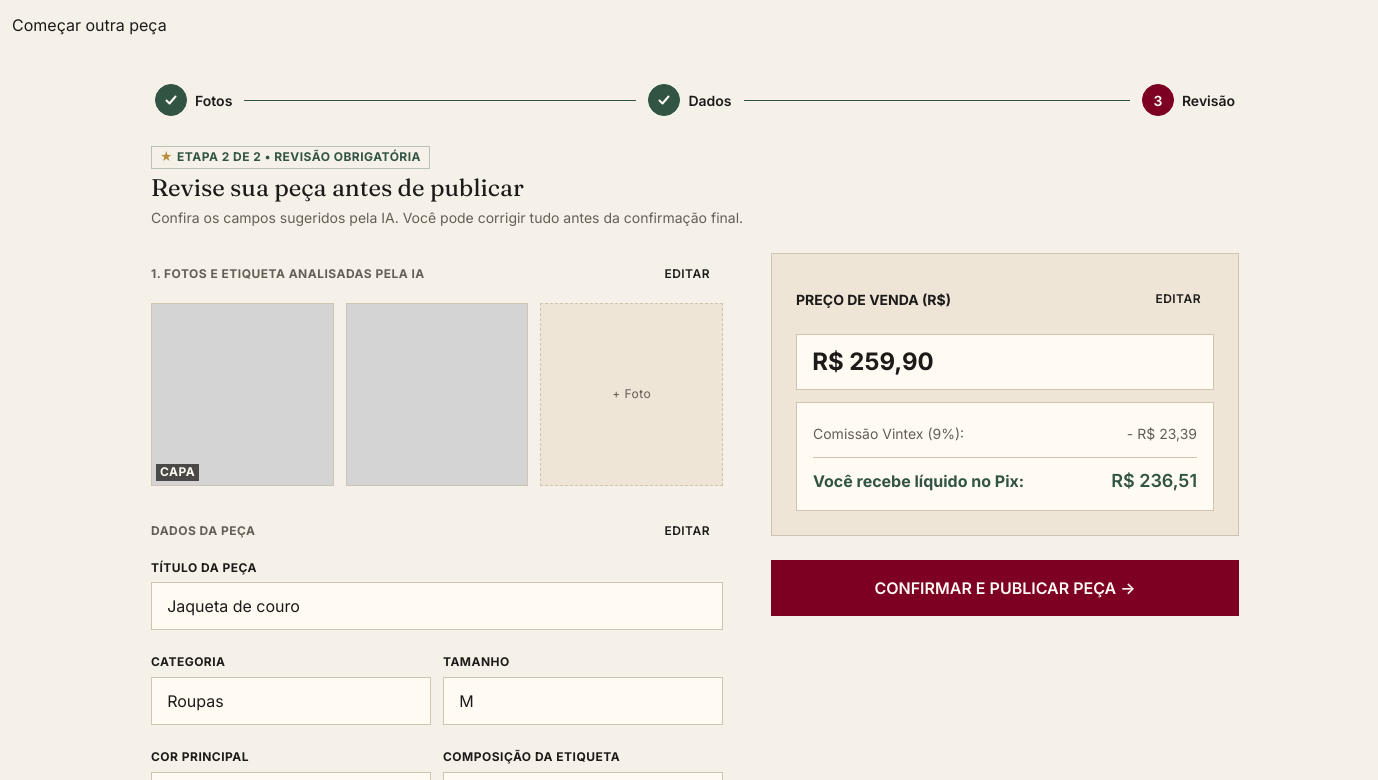
Test case: Review › NO_IMAGE vindo do back também bloqueia na revisão, sem navegar
Click the button "Confirmar e publicar peça →": (1005,588) [771,560,1239,616]
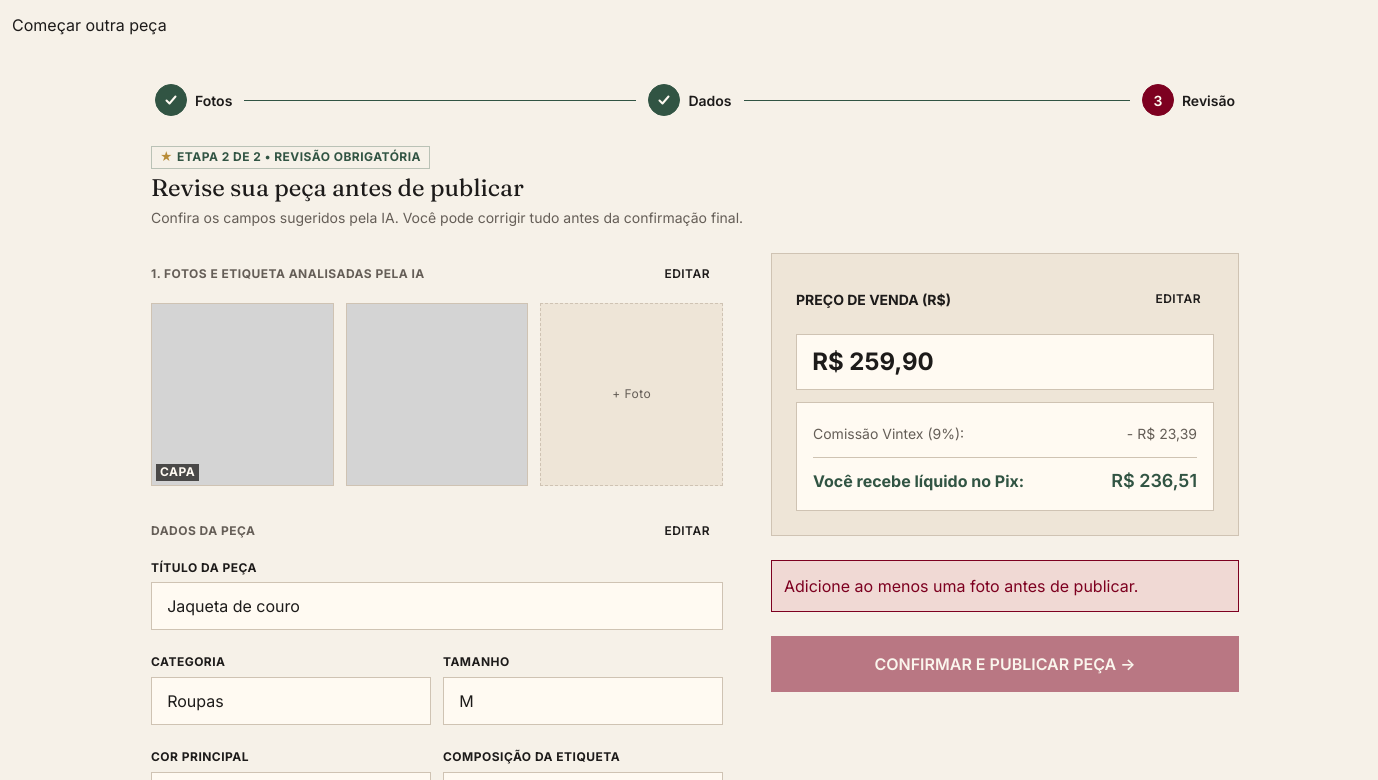
Expected: the heading "Revise sua peça antes de publicar" is shown, [151,173,524,202]
Expected: the text "Adicione ao menos uma foto antes de publicar." is shown, [771,560,1239,612]
Expected: the button "Confirmar e publicar peça →" is disabled, [771,636,1239,692]
